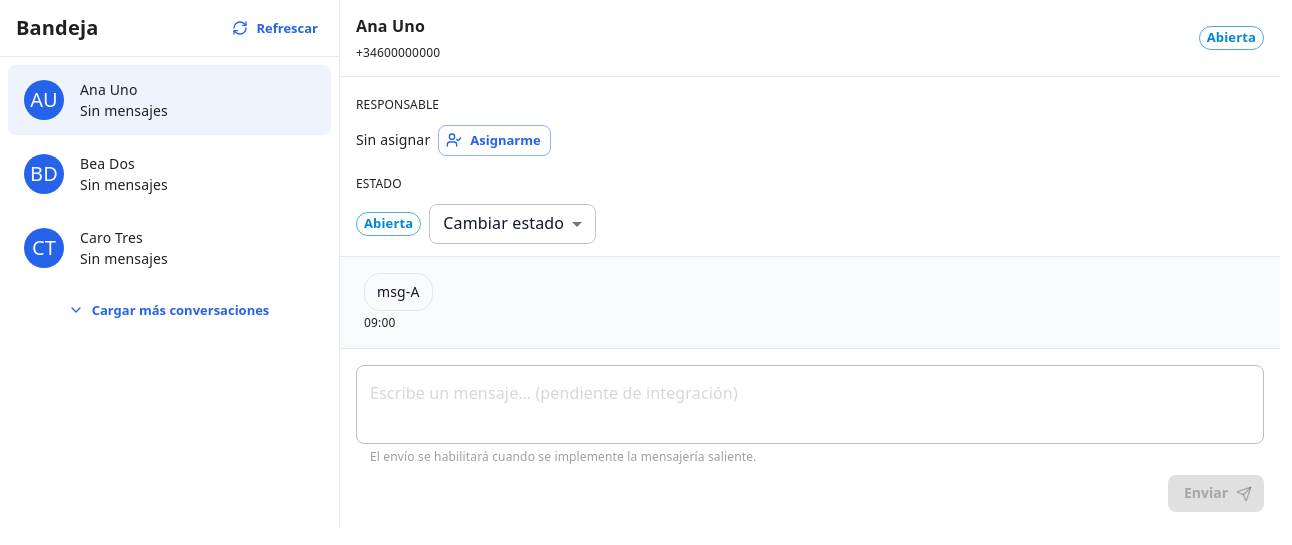
Inbox listado — paginación incremental (T08) › T9: la selección es estable y no repite detalle/mensajes tras «Cargar más»
The image size is (1292, 545).
Expected: the text "msg-A" is shown, [377,282,420,302]
Click the button "Cargar más conversaciones" at (170, 310), box [65,295,274,326]
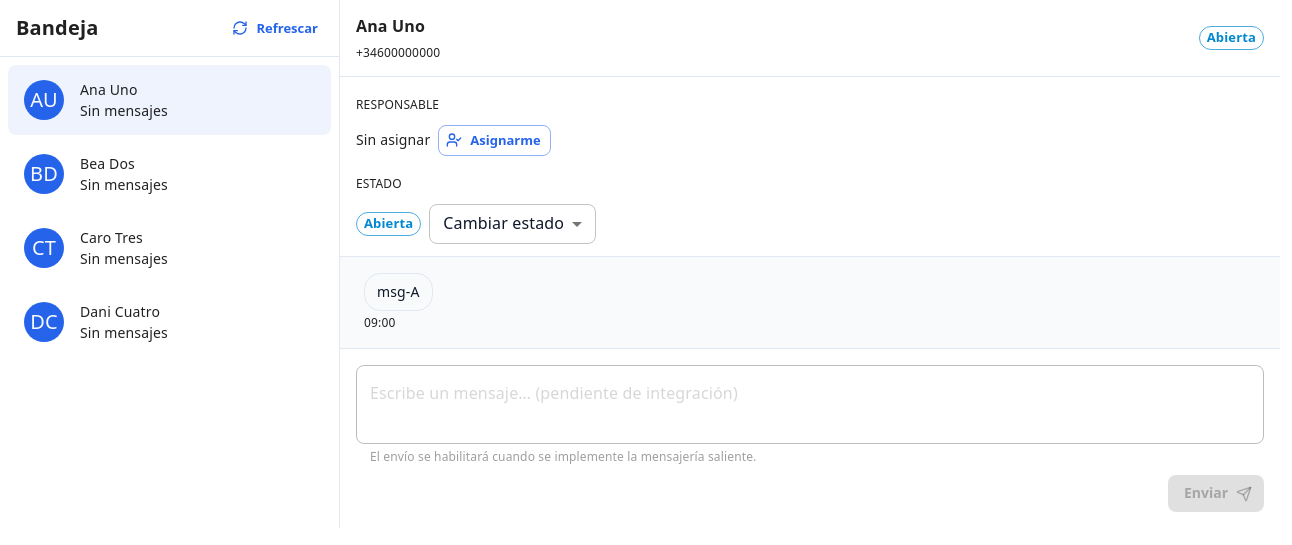
Now the button "DC Dani Cuatro Sin mensajes" is shown, box [24,302,168,342]
